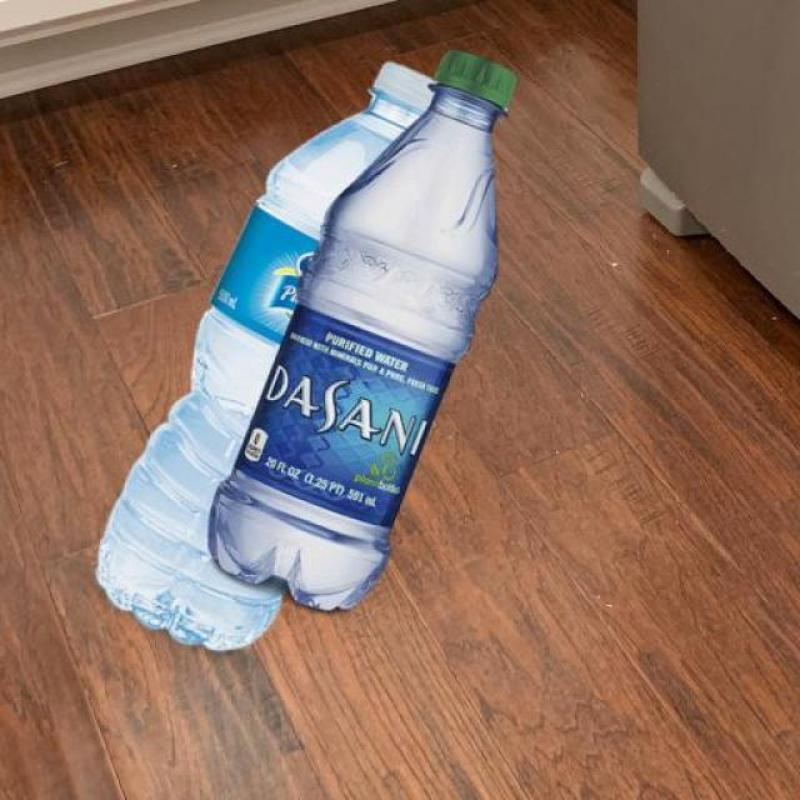botella: (92, 60, 436, 648), (209, 49, 521, 612)
